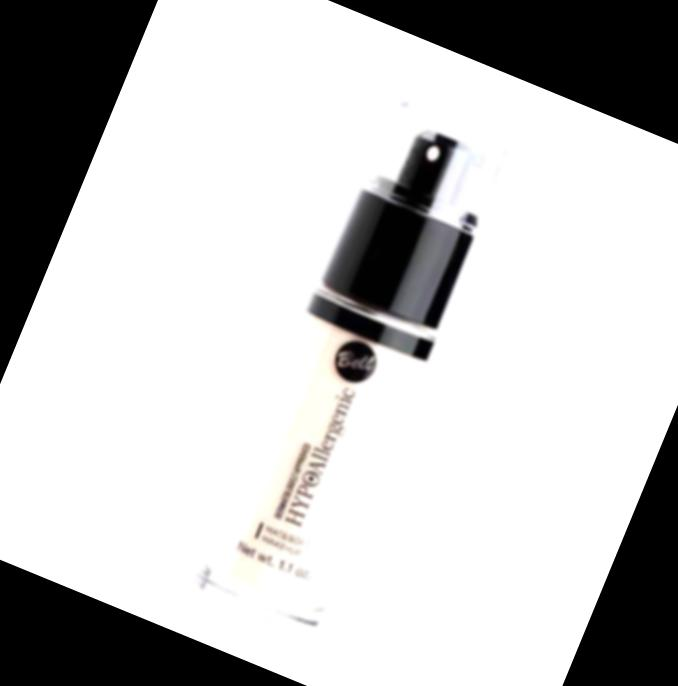cosmetic: (189, 94, 516, 640)
